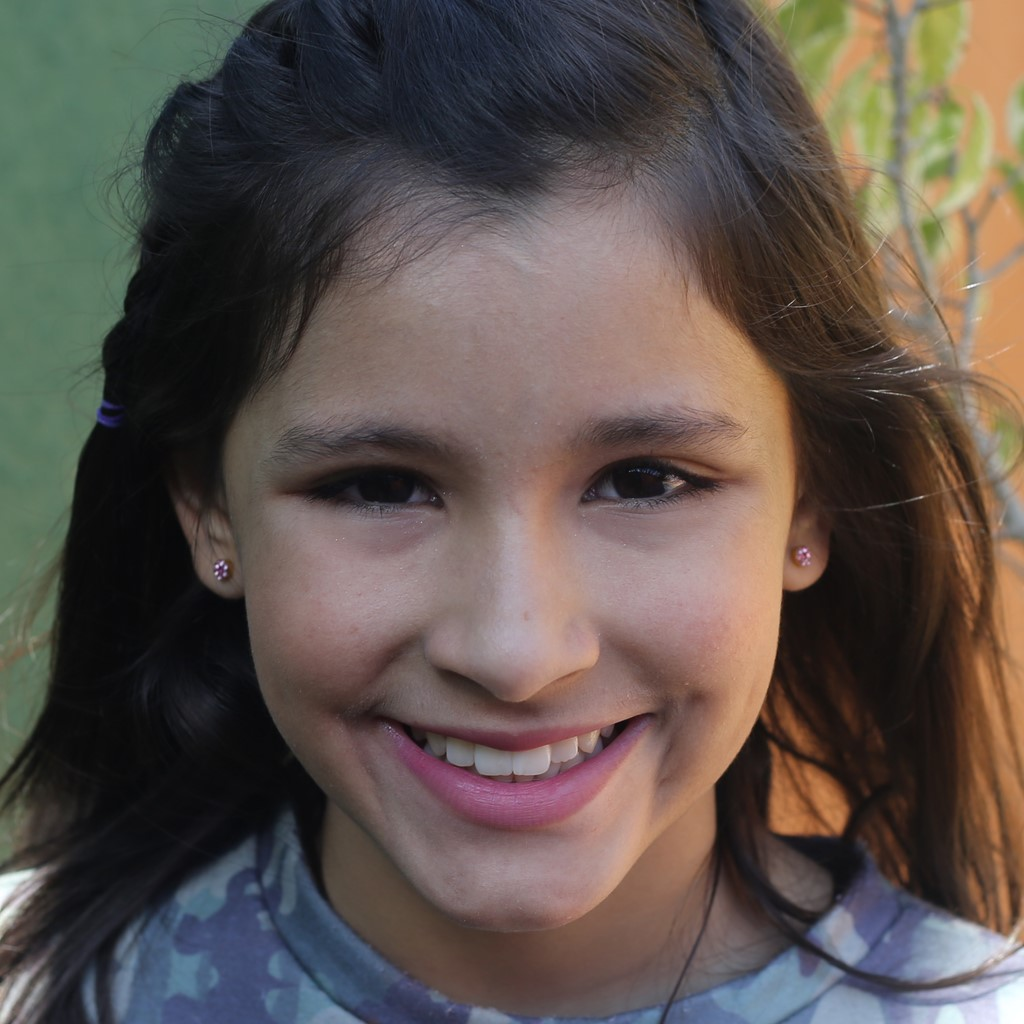sin_mascara: (199, 61, 841, 934)
